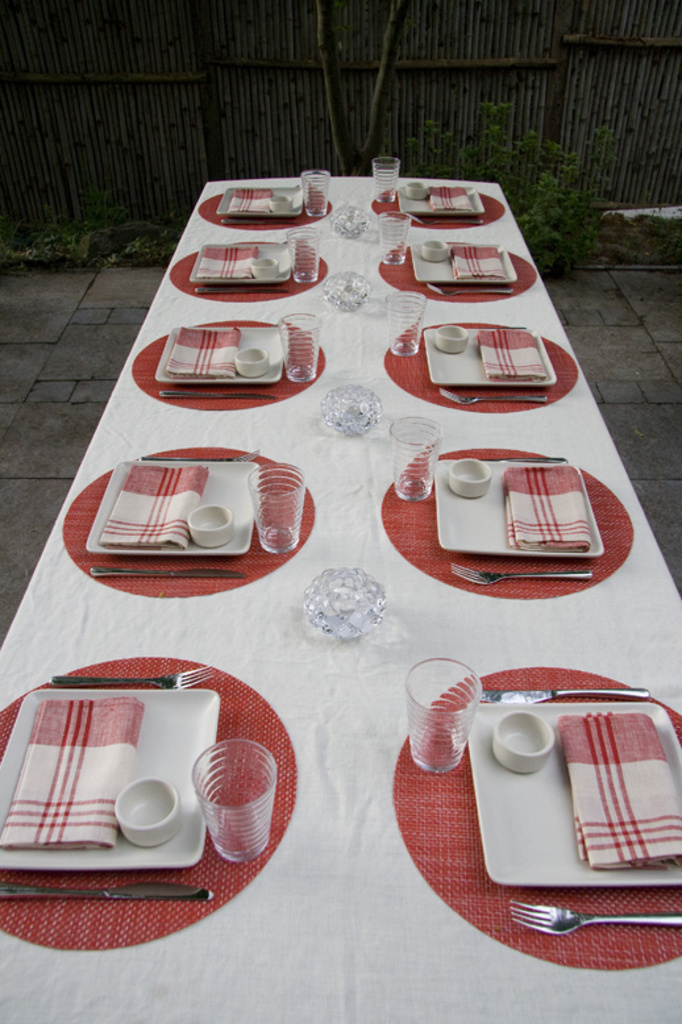plate: (408, 436, 608, 580), (211, 189, 305, 218)
